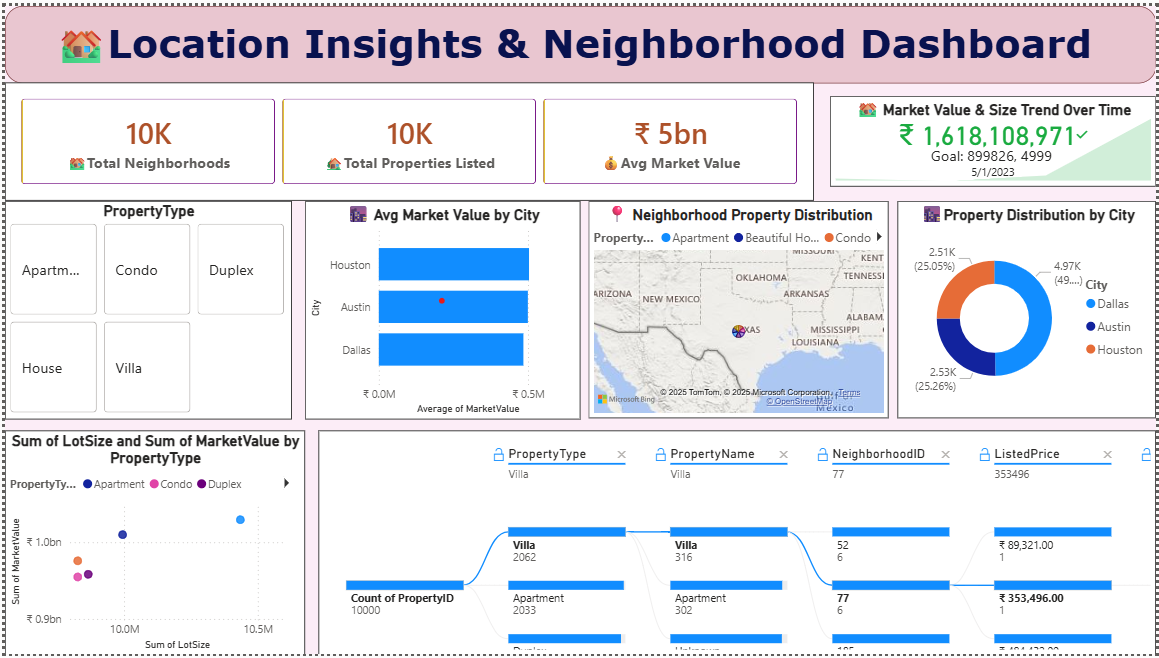

The dashboard page shown, as its layout file describes it:
{"tool":"powerbi","page":{"name":"Location Insight","canvas":[1280,720],"ordinal":3},"visuals":[{"type":"textbox","box":[0,0,1279.2,85.8],"z":0},{"type":"map","title":"📍 Neighborhood Property Distribution","fields":{"Category":["Properties.State"],"Series":["Properties.PropertyName"],"Size":["Avg(Properties.MarketValue)"]},"box":[647.7,217,333.6,241.3],"z":1000},{"type":"scatterChart","fields":{"Series":["Properties.PropertyType"],"X":["Sum(Properties.LotSize)"],"Y":["Sum(Properties.MarketValue)"]},"box":[0,471.2,333.6,249.4],"z":2000},{"type":"decompositionTreeVisual","fields":{"Analyze":["CountNonNull(Properties.PropertyID)"],"ExplainBy":["Properties.PropertyType","Properties.PropertyName","Properties.NeighborhoodID","Properties.ListedPrice","Properties.FurnishingStatus","Properties.MarketValue"]},"box":[348.1,471.2,931.1,249.4],"z":3000},{"type":"cardVisual","fields":{"Data":["CountNonNull(Properties.NeighborhoodID)","CountNonNull(Properties.ListedPrice)","Sum(Properties.MarketValue)"]},"box":[0,85.8,898.7,131.2],"z":4000},{"type":"barChart","title":"🌆 Avg Market Value by City","fields":{"Category":["Properties.City"],"Y":["Avg(Properties.MarketValue)"]},"box":[333.6,217,306,242.9],"z":5000},{"type":"kpi","title":"🏘️ Market Value & Size Trend Over Time","fields":{"Goal":["Max(Properties.MarketValue)","Max(Properties.SquareFeet)"],"Indicator":["Sum(Properties.MarketValue)1"],"TrendLine":["Properties.SoldDate"]},"box":[916.5,100.4,362.7,100.4],"z":6000},{"type":"donutChart","title":"🌆Property Distribution by City ","fields":{"Category":["Properties.City"],"Y":["CountNonNull(Properties.PropertyDescription)"]},"box":[991,217,288.2,241.3],"z":7000},{"type":"advancedSlicerVisual","fields":{"Values":["Properties.PropertyType"]},"box":[0,217,319,242.9],"z":8000}]}

Visuals, with their boxes in screenshot pixels (x1, y1, x2, y2), scaled from the page's 1280x720 canvas onto the 1159x658 screenshot:
textbox: Rect(0, 0, 1158, 78)
"📍 Neighborhood Property Distribution" map: Rect(586, 198, 889, 419)
scatterChart - Properties.PropertyType x Sum(Properties.LotSize): Rect(0, 431, 302, 657)
decompositionTreeVisual - CountNonNull(Properties.PropertyID) x Properties.PropertyType: Rect(315, 431, 1158, 657)
cardVisual - CountNonNull(Properties.NeighborhoodID) x CountNonNull(Properties.ListedPrice): Rect(0, 78, 814, 198)
"🌆 Avg Market Value by City" barChart: Rect(302, 198, 579, 420)
"🏘️ Market Value & Size Trend Over Time" kpi: Rect(830, 92, 1158, 184)
"🌆Property Distribution by City " donutChart: Rect(897, 198, 1158, 419)
advancedSlicerVisual - Properties.PropertyType: Rect(0, 198, 289, 420)
